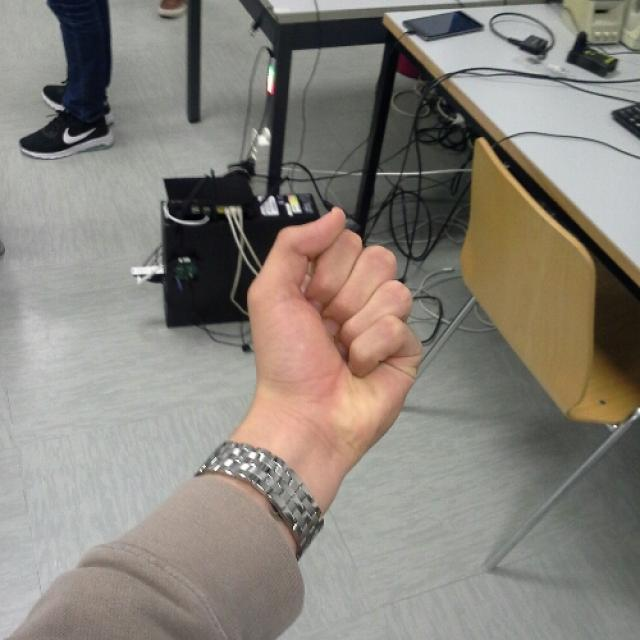rock: (247, 205, 422, 446)
